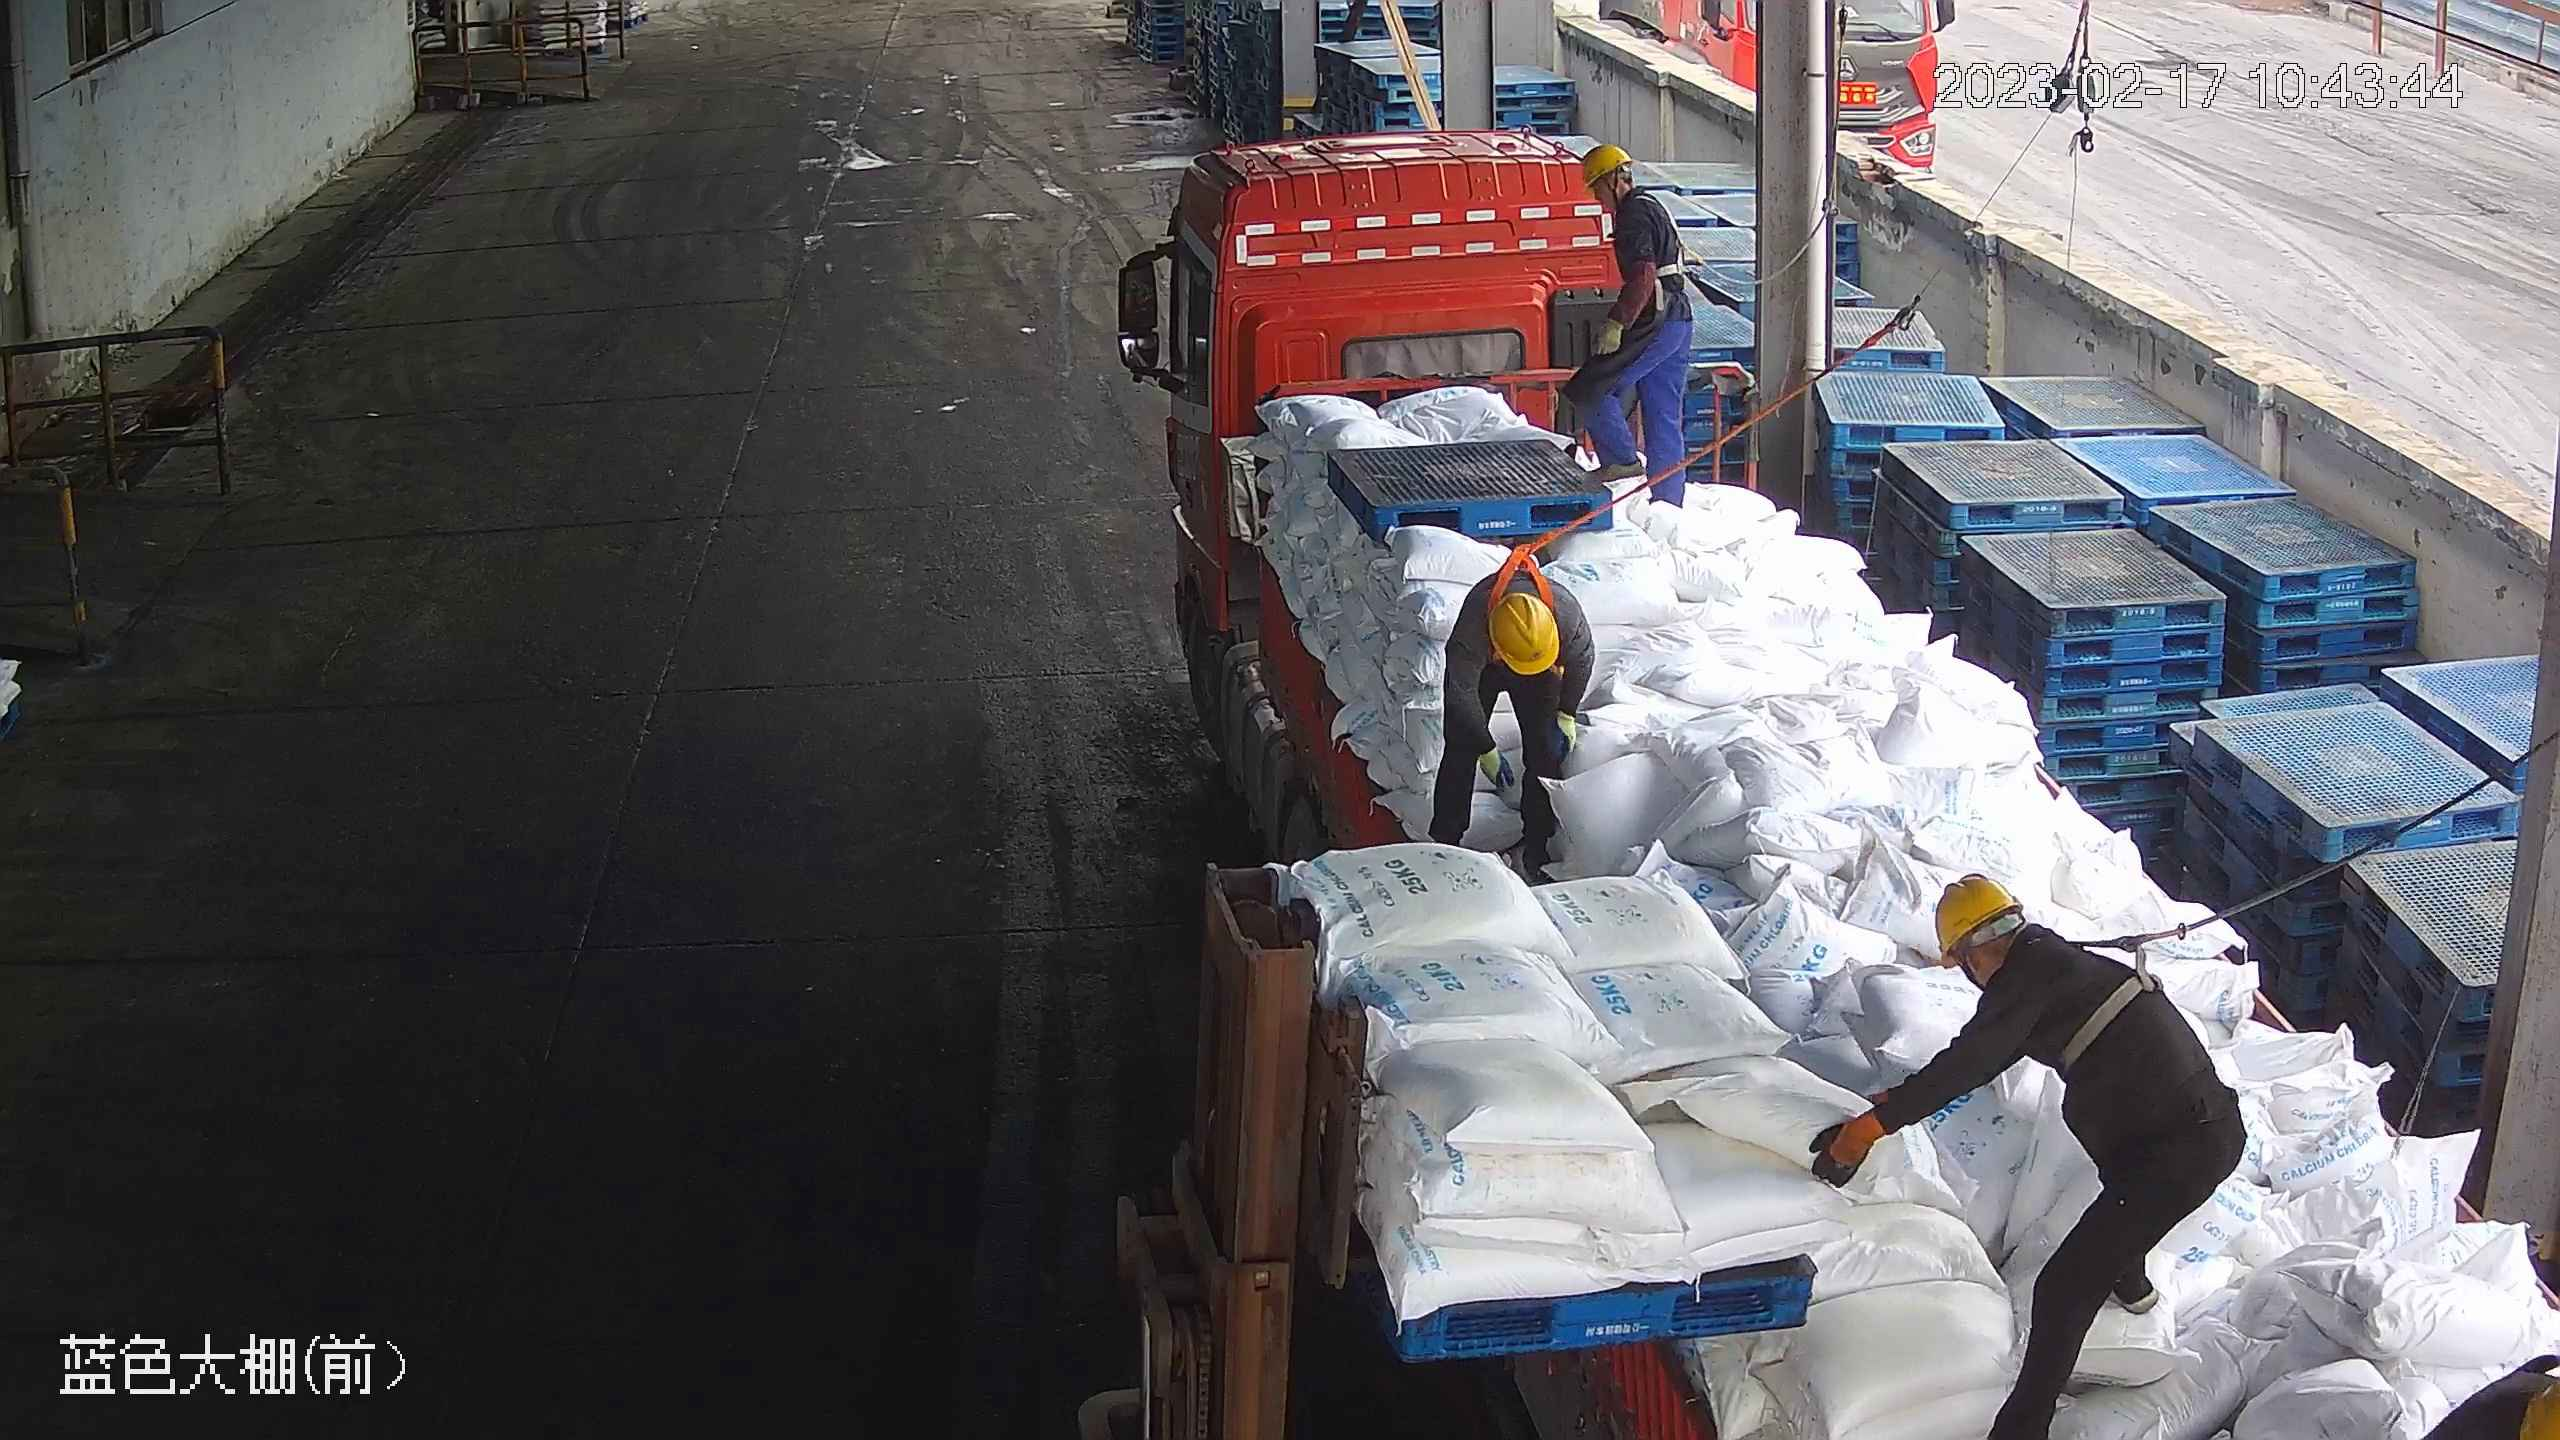belt: (2029, 920, 2180, 1067), (1623, 192, 1701, 289), (1481, 528, 1561, 617)
head: (1927, 874, 2100, 1038), (1457, 564, 1582, 692), (1577, 144, 1684, 258)
helmet: (1931, 874, 2023, 959), (1483, 592, 1567, 682), (1579, 142, 1634, 192), (2520, 1380, 2560, 1440)
people: (1816, 859, 2243, 1435), (1426, 548, 1595, 885), (1562, 139, 1704, 510)
truck: (1115, 122, 2557, 1440)
